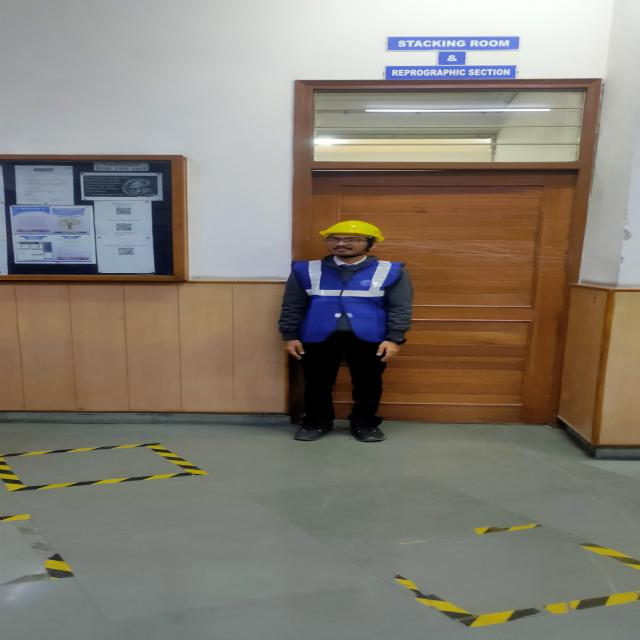safe: (282, 221, 411, 441)
